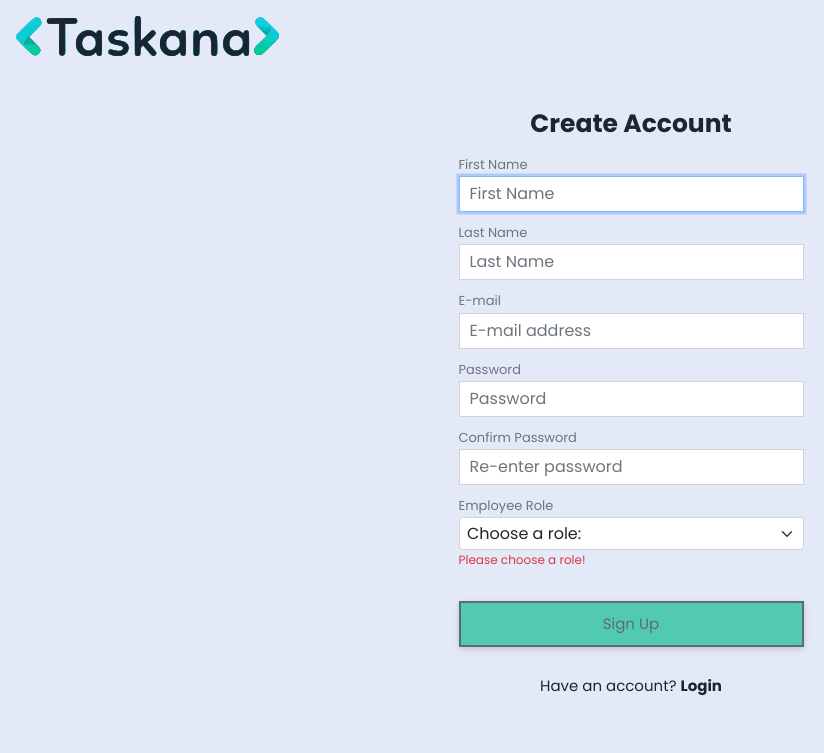
Test: submit btn › should enable btn when fields are valid
The image size is (824, 753).
Expected: the button is disabled, [458,601,804,647]
Type "Marcellus" into the field with placeholder "First Name".
click(631, 194); type("Marcellus")  # box [458,176,804,212]
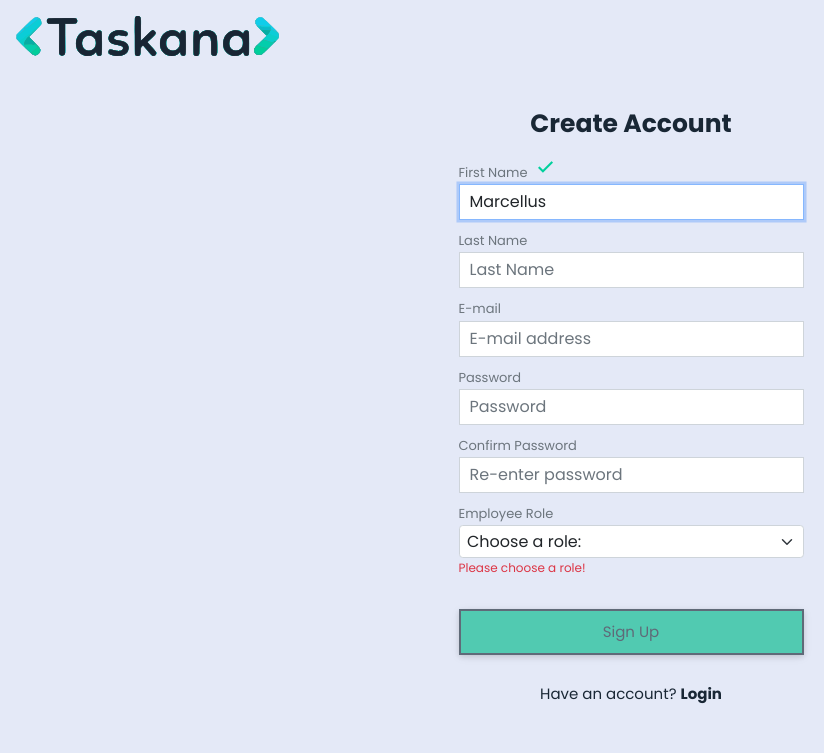
Type "Muhammad" into the field with placeholder "Last Name".
click(631, 270); type("Muhammad")  # box [458,252,804,288]
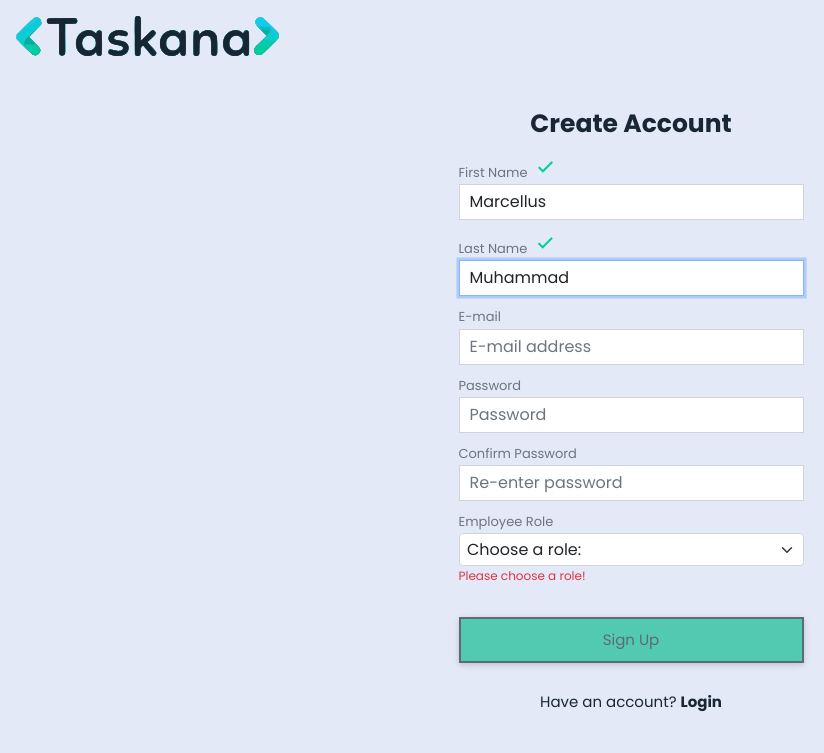
Type "marcellustm@yahoo.com" into the field with placeholder "E-mail address".
click(631, 346); type("marcellustm@yahoo.com")  # box [458,328,804,364]
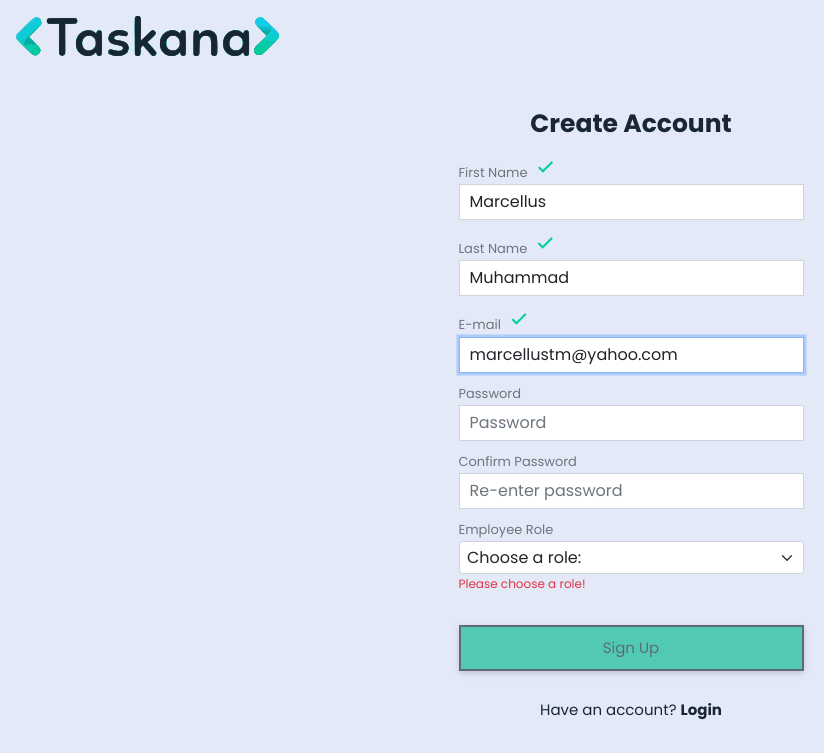
Type "Password1!" into the password field with placeholder "Password".
click(631, 423); type("Password1!")  # box [458,405,804,441]
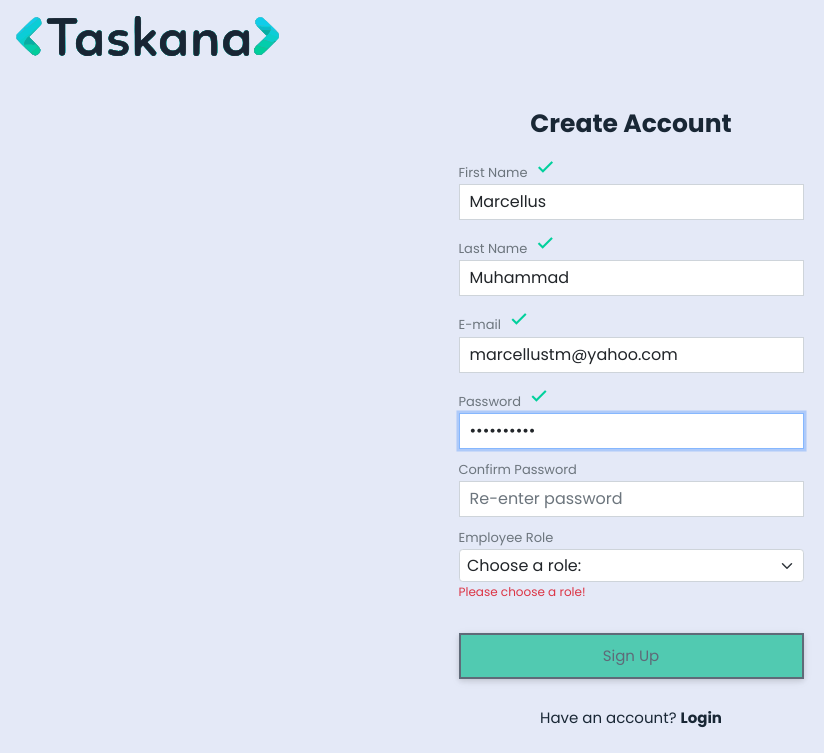
Type "Password1!" into the password field with placeholder "Re-enter password".
click(631, 499); type("Password1!")  # box [458,481,804,517]
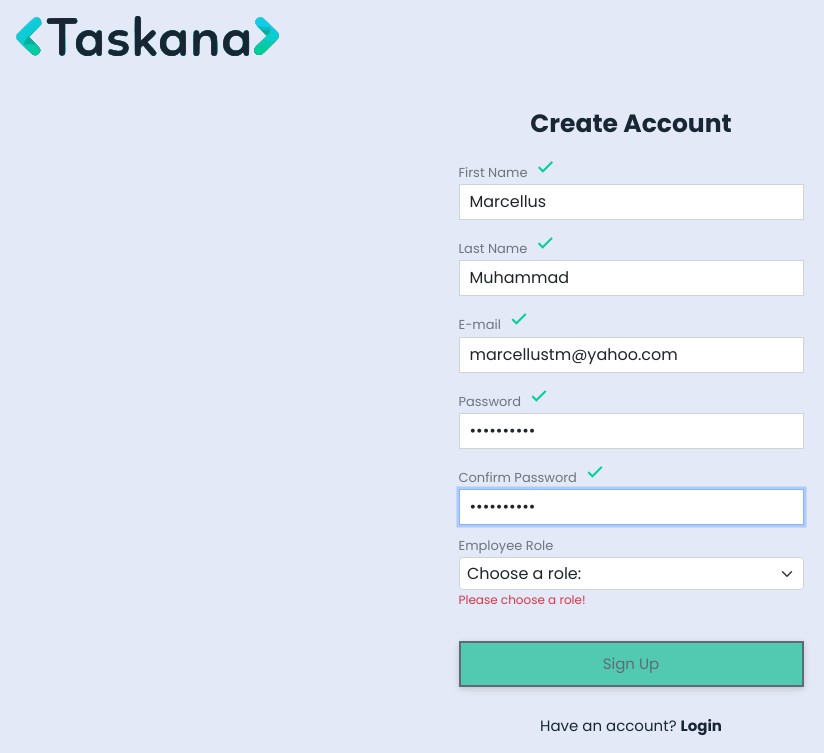
Select "Software Engineer" in the dropdown at (631, 574), box [458,557,804,590]
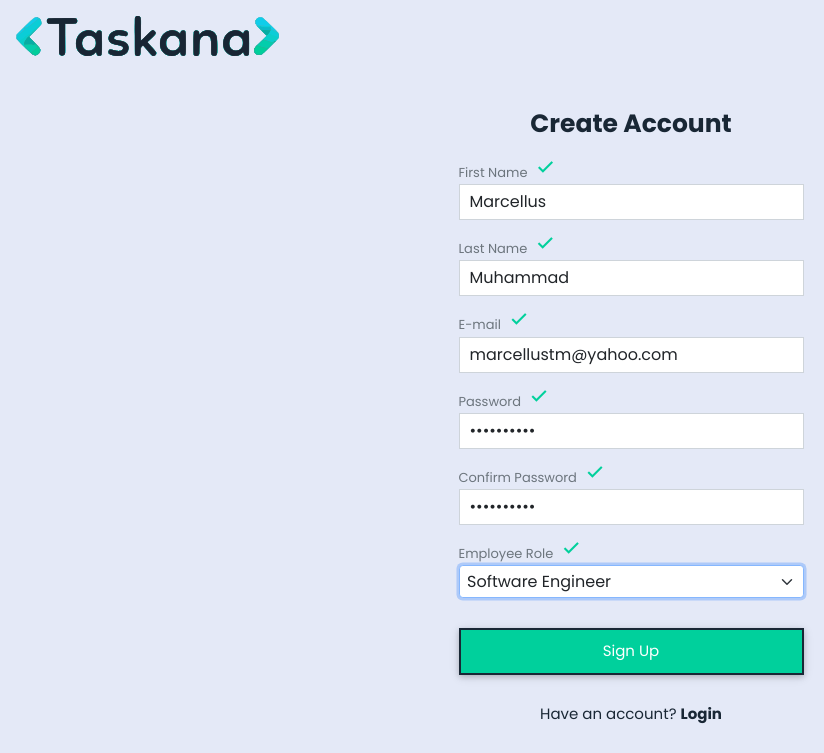
Expected: the button is enabled, [458,628,804,675]
